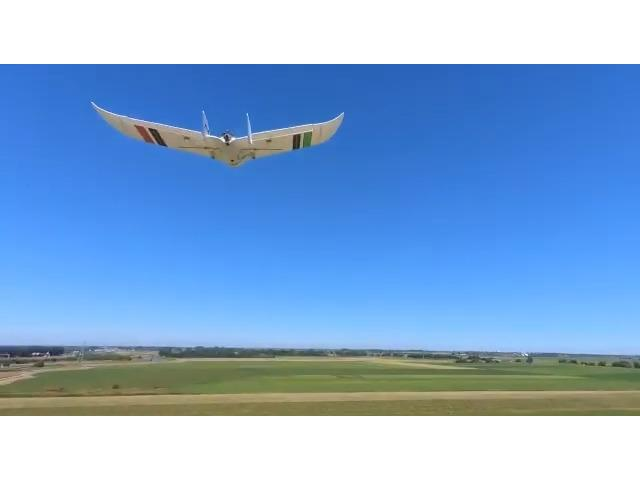Anti-Drone: (68, 91, 384, 170)
